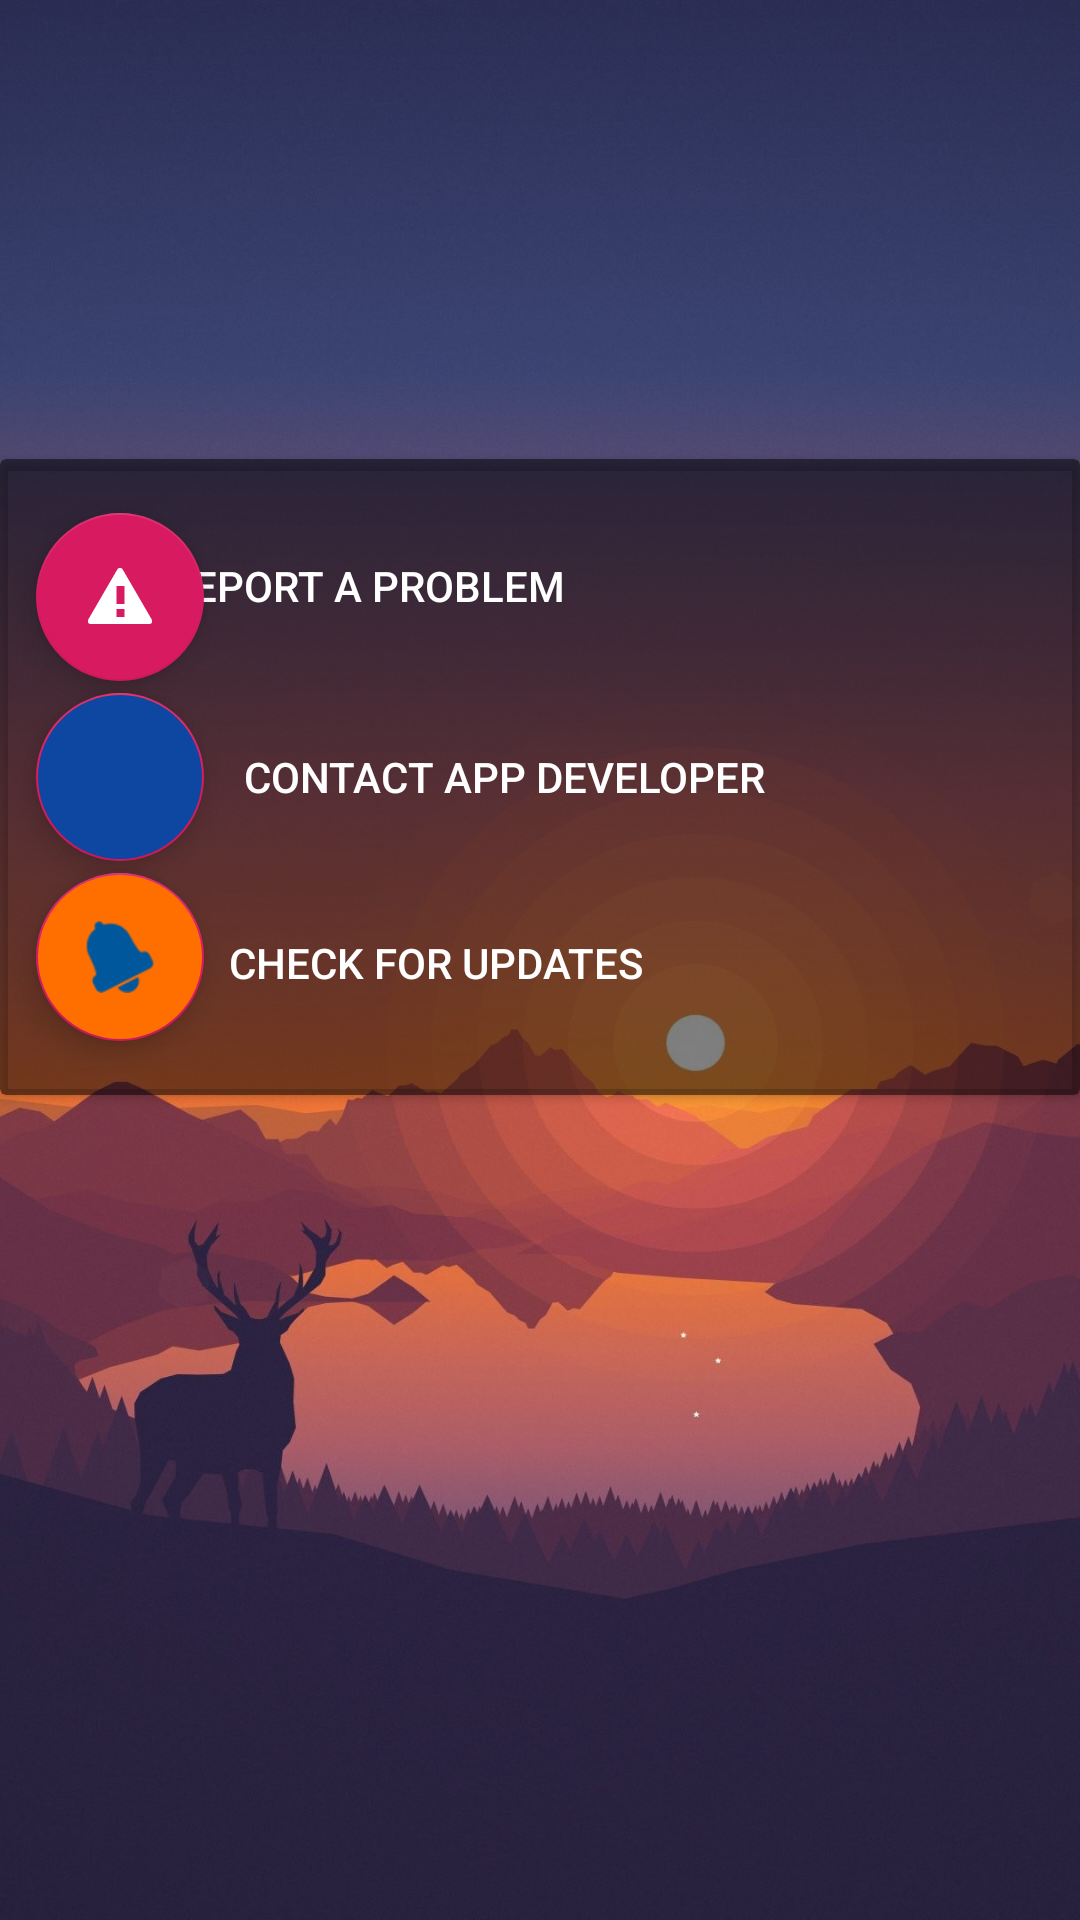

Icons on this 1080px x 1920px Android screen, each with the point to tap as (x=x, y=y):
error: (x=120, y=597)
popup reminder: (x=120, y=957)
